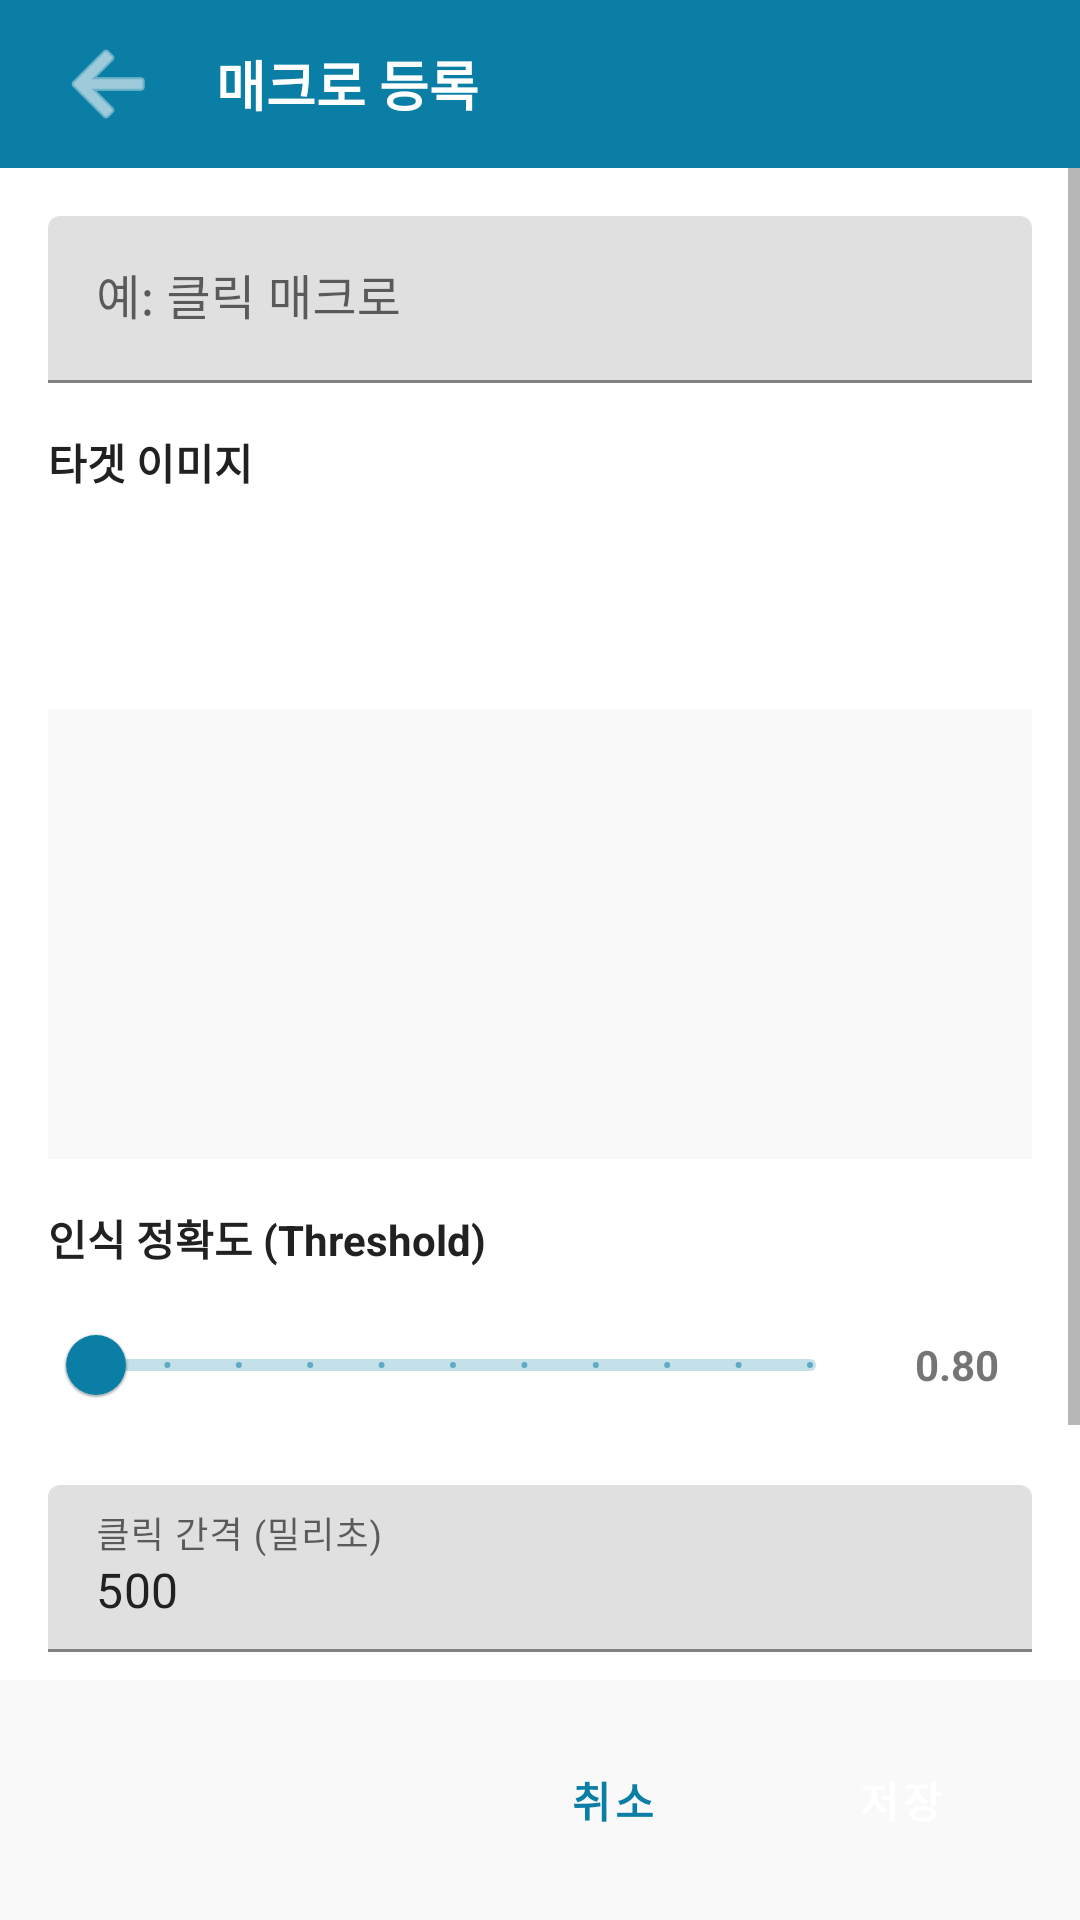

Screen size 1080x1920. Icon name, then its center in pixels as (x,y):
뒤로 가기: (108,84)
